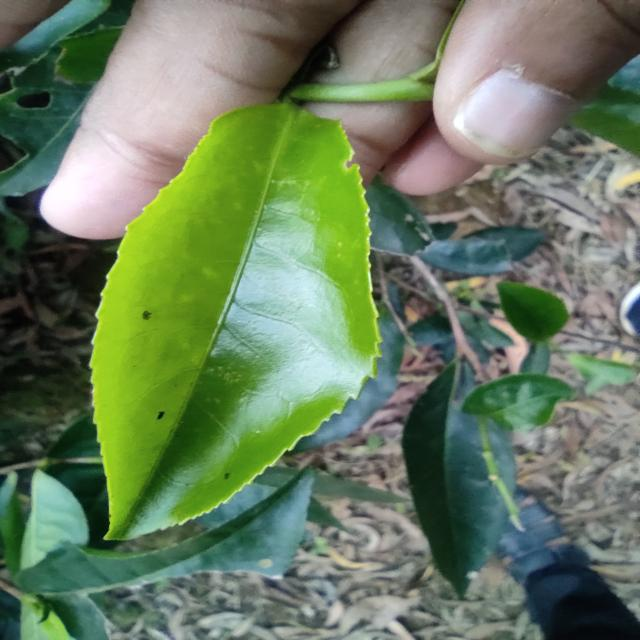Category C 4-7 days: (45, 51, 432, 577)
